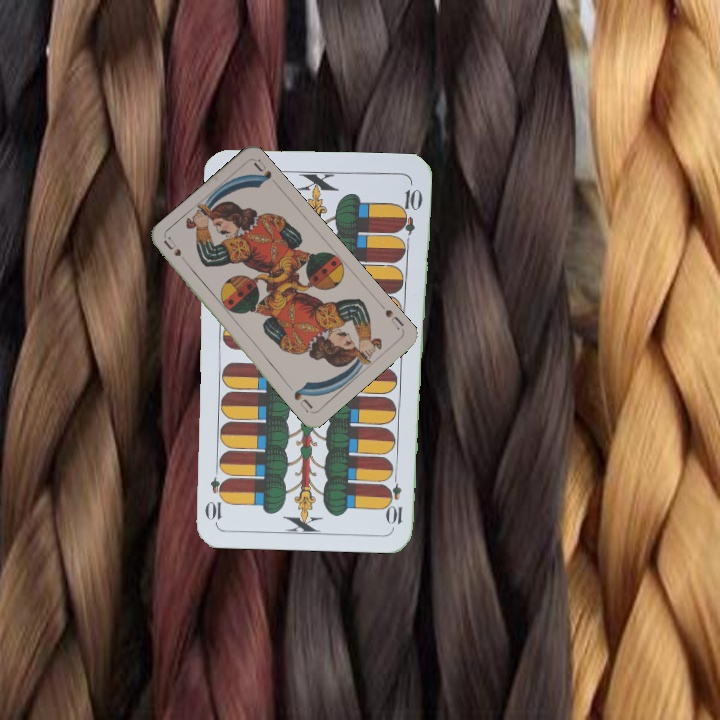E10: (386, 468, 405, 527)
SU: (160, 234, 193, 269), (376, 299, 407, 332)
